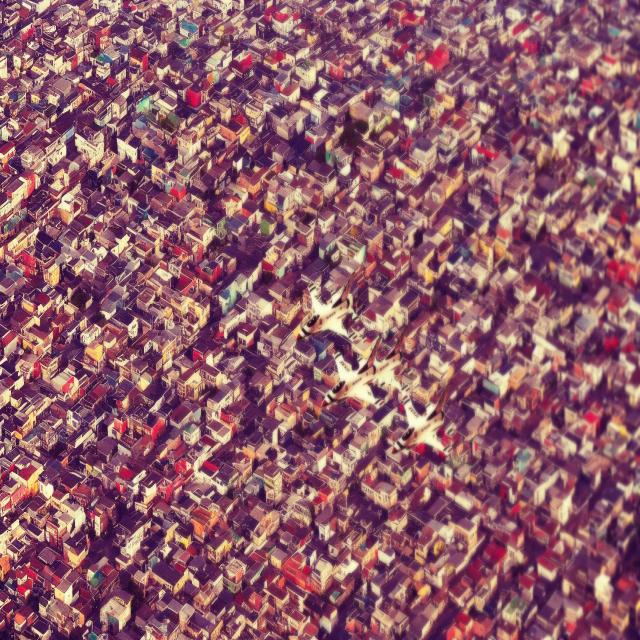airplane: (322, 335, 401, 405), (391, 388, 453, 462), (302, 281, 355, 339)
